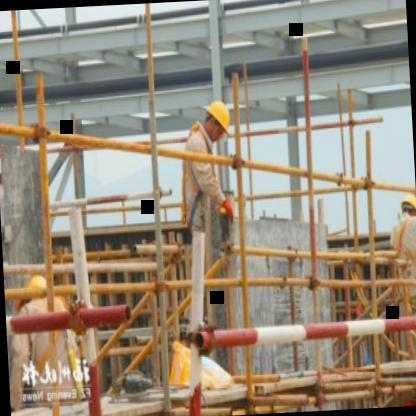helmet: (198, 96, 233, 145), (398, 186, 416, 223)
